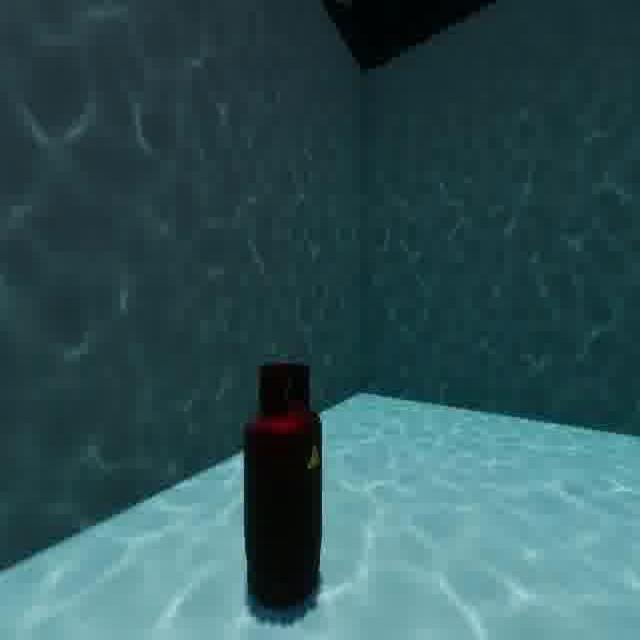Cylinder: (233, 350, 328, 615)
